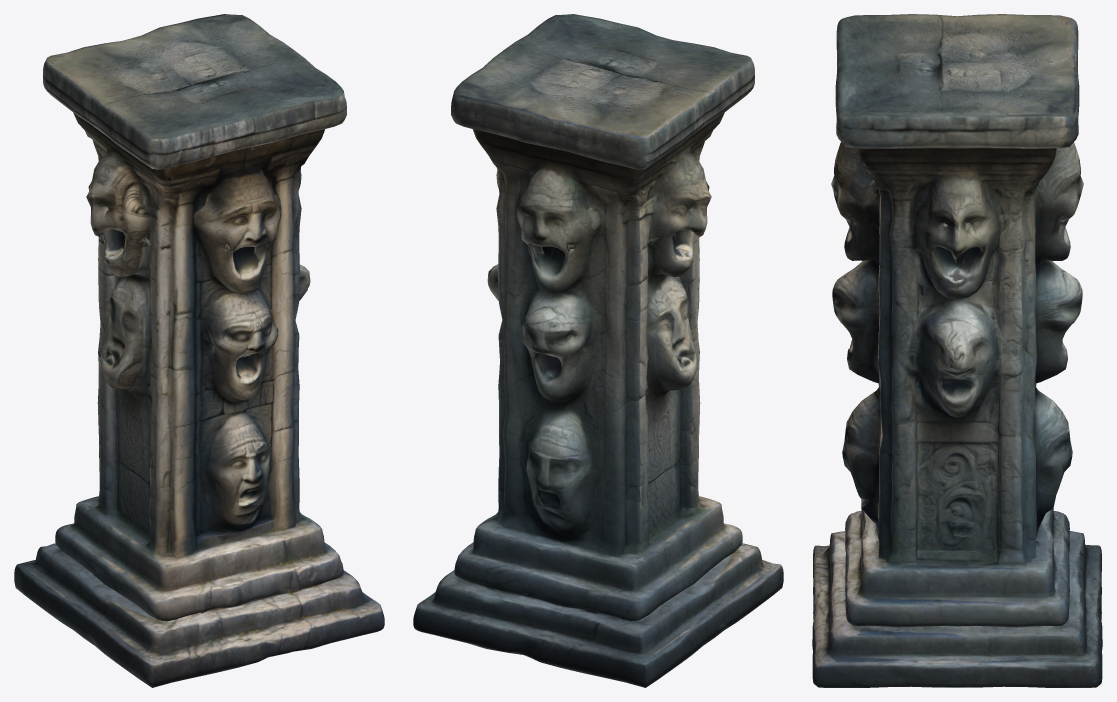
The model's file is Source.fbx.
The picture shows the model from 3 angles, left to right: view 1: azimuth 30°, elevation 25°; view 2: azimuth 150°, elevation 25°; view 3: azimuth 270°, elevation 25°; orthographic projection. The views are drawn at different scales.
Parts seen in each view (by area): view 1: Mesh1_Mesh1.009; view 2: Mesh1_Mesh1.009; view 3: Mesh1_Mesh1.009.
Boxes of the visible parts, x1,y1,x2,y2 form: Mesh1_Mesh1.009: (14, 14, 384, 687); Mesh1_Mesh1.009: (413, 14, 783, 687); Mesh1_Mesh1.009: (812, 14, 1102, 687).
Bounding box in the file's own units: 22.94 × 50 × 23.33.
Materials: 1 (1 with a texture image).
